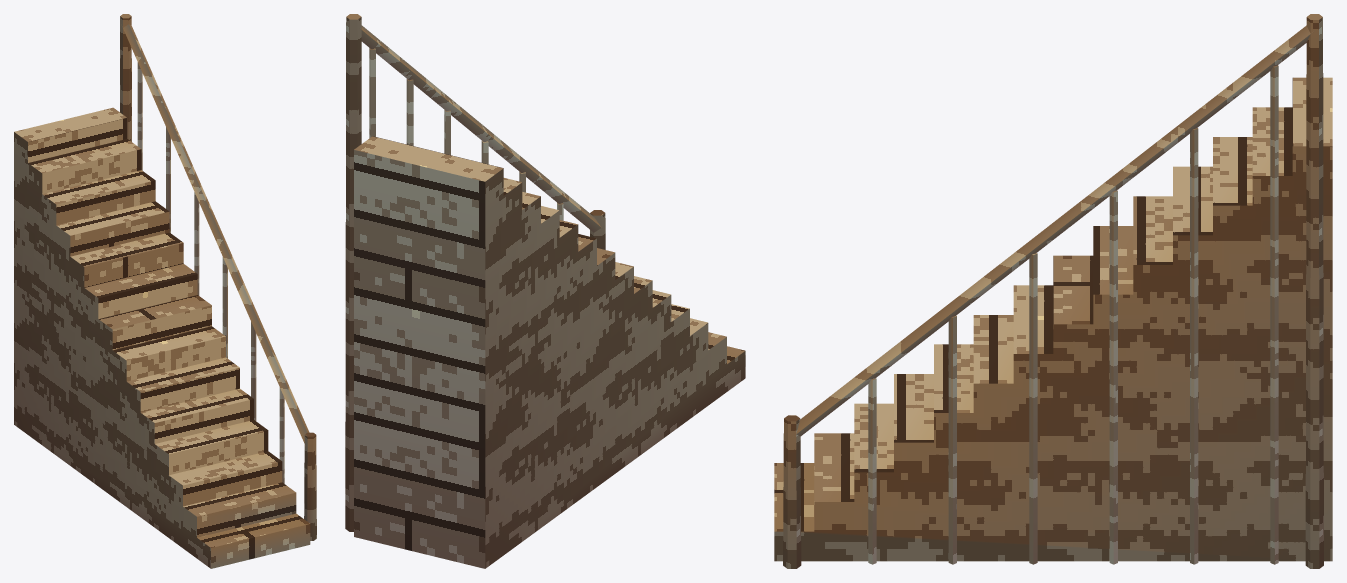
The model's file is wtown.stairs.glb.
3 renders of one model, left to right at view 1: azimuth 30°, elevation 25°; view 2: azimuth 150°, elevation 25°; view 3: azimuth 270°, elevation 25°, orthographic. The views are drawn at different scales.
Visible parts, largest first — view 1: kit_treads, kit_rail, kit_spindles, kit_rail_posts; view 2: kit_treads, kit_rail_posts, kit_rail, kit_spindles; view 3: kit_treads, kit_spindles, kit_rail_posts, kit_rail.
Part boxes in pixels (x1,y1,x2,y2): kit_treads: (14,107,310,568); kit_rail: (122,24,309,445); kit_spindles: (137,62,284,483); kit_rail_posts: (120,14,316,540); kit_treads: (354,136,745,568); kit_rail_posts: (345,14,605,531); kit_rail: (360,25,602,232); kit_spindles: (369,48,563,220); kit_treads: (774,77,1332,561); kit_spindles: (868,65,1278,564); kit_rail_posts: (783,14,1323,568); kit_rail: (793,25,1314,436).
Bounding box in the file's own units: 1.22 × 4.1 × 3.78.
4 materials, 4 textured.
